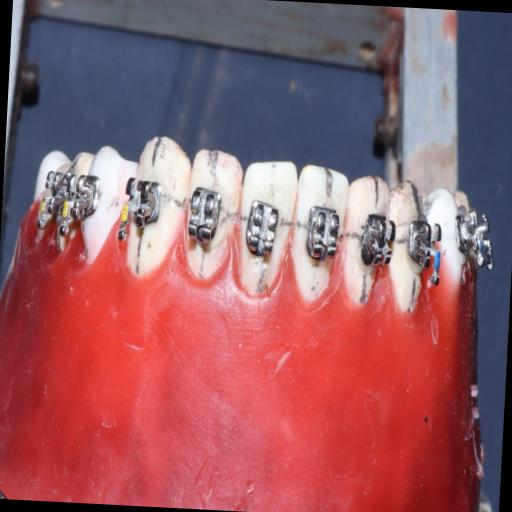correct_brace: (304, 203, 344, 263)
incorrect_brace: (242, 197, 285, 270)
